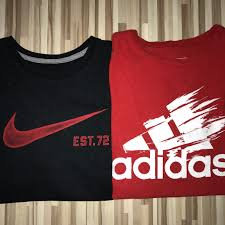adidas: (113, 94, 224, 178)
nike: (1, 107, 108, 150)
